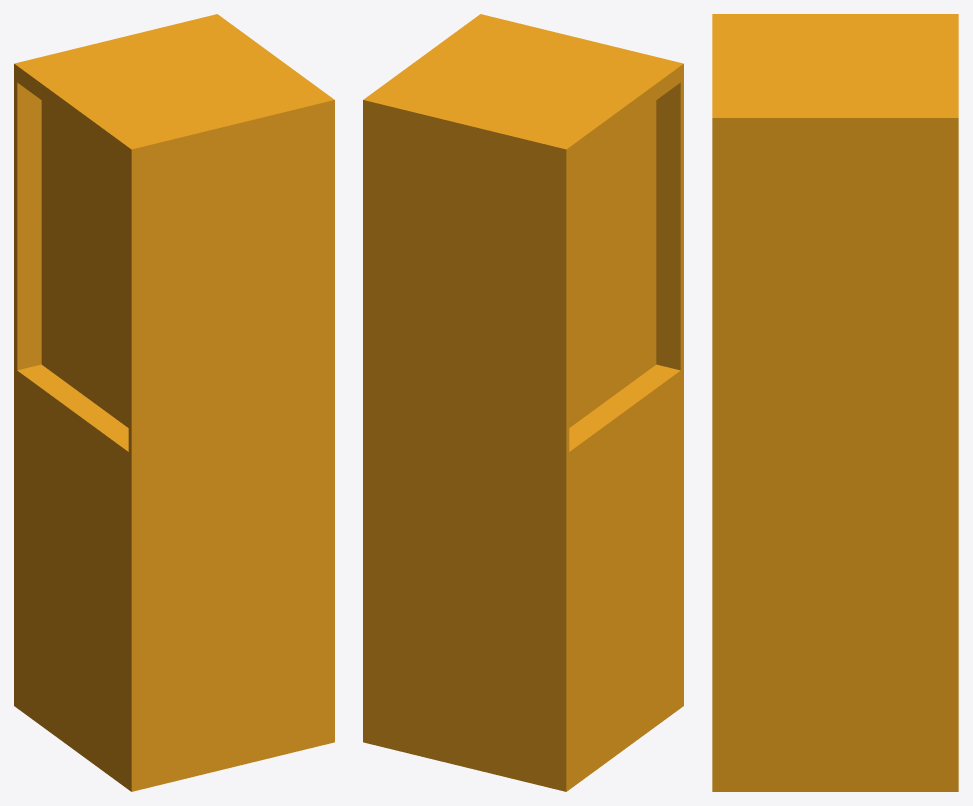
Rendered from terminalmaybe.fbx.
3 views of the same model, side by side, from view 1: azimuth 30°, elevation 25°; view 2: azimuth 150°, elevation 25°; view 3: azimuth 270°, elevation 25° (orthographic). The views are drawn at different scales.
Visible parts, largest first — view 1: Cube; view 2: Cube; view 3: Cube.
Boxes of the visible parts, box(x1,y1,x2,y2) form: Cube: box(14, 14, 334, 791); Cube: box(363, 14, 683, 791); Cube: box(712, 14, 958, 791).
Size of the model in its own units: 200 by 604 by 200.
